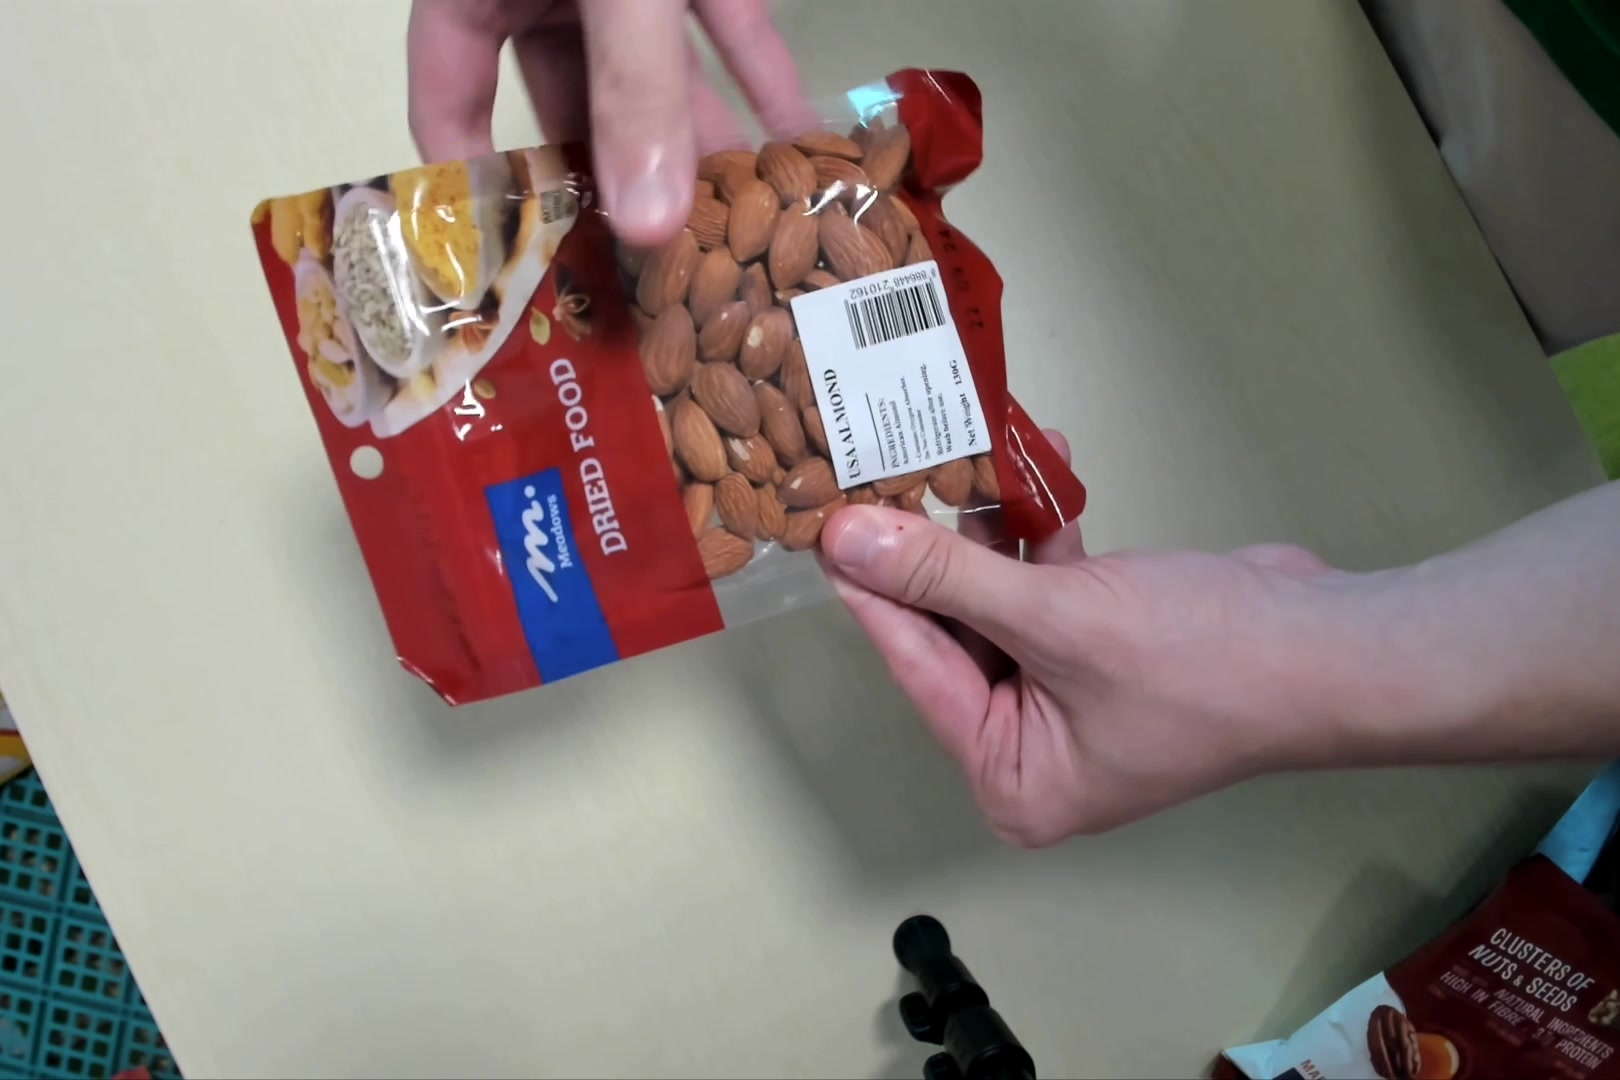Nuts_100-199g_NonHalal_NonHealthy: (235, 61, 1096, 708)
